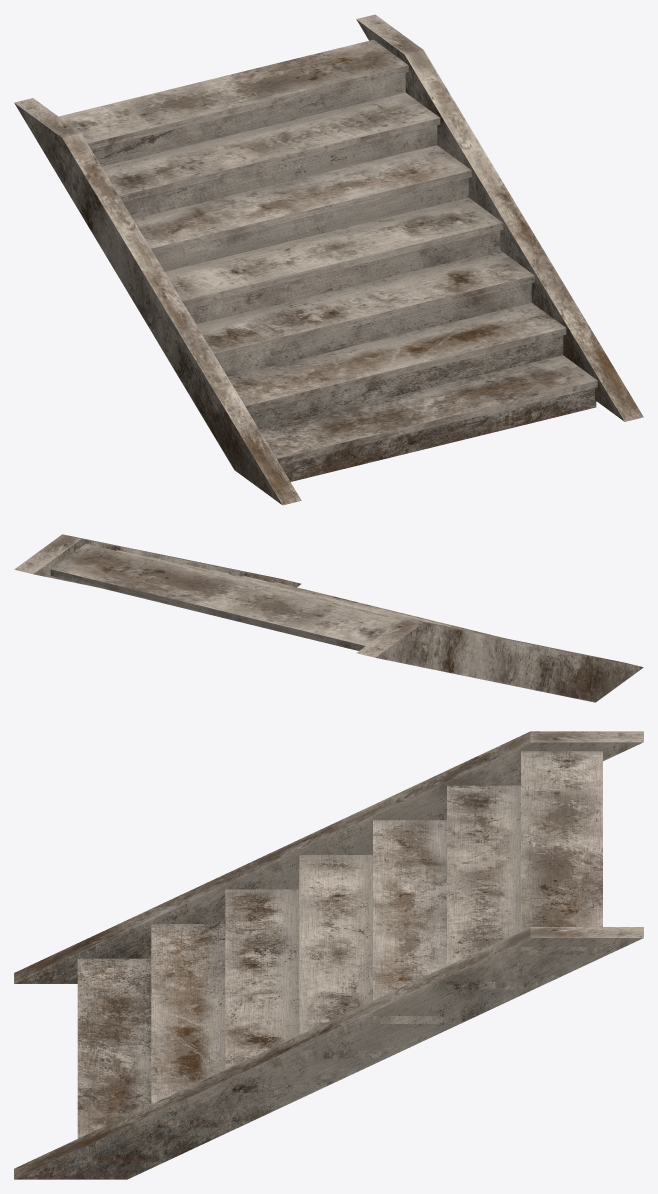
The picture shows the model from 3 angles, top to bottom: view 1: azimuth 30°, elevation 25°; view 2: azimuth 150°, elevation 25°; view 3: azimuth 270°, elevation 25°; orthographic projection. The views are drawn at different scales.
Visible parts, largest first — view 1: stairs_AH; view 2: stairs_AH; view 3: stairs_AH.
Part boxes in pixels (x1,y1,x2,y2): stairs_AH: [14, 14, 643, 505]; stairs_AH: [14, 534, 643, 702]; stairs_AH: [14, 731, 643, 1179].
Size of the model in its own units: 1.55 by 0.8786 by 2.
Materials: 1 (1 with a texture image).
